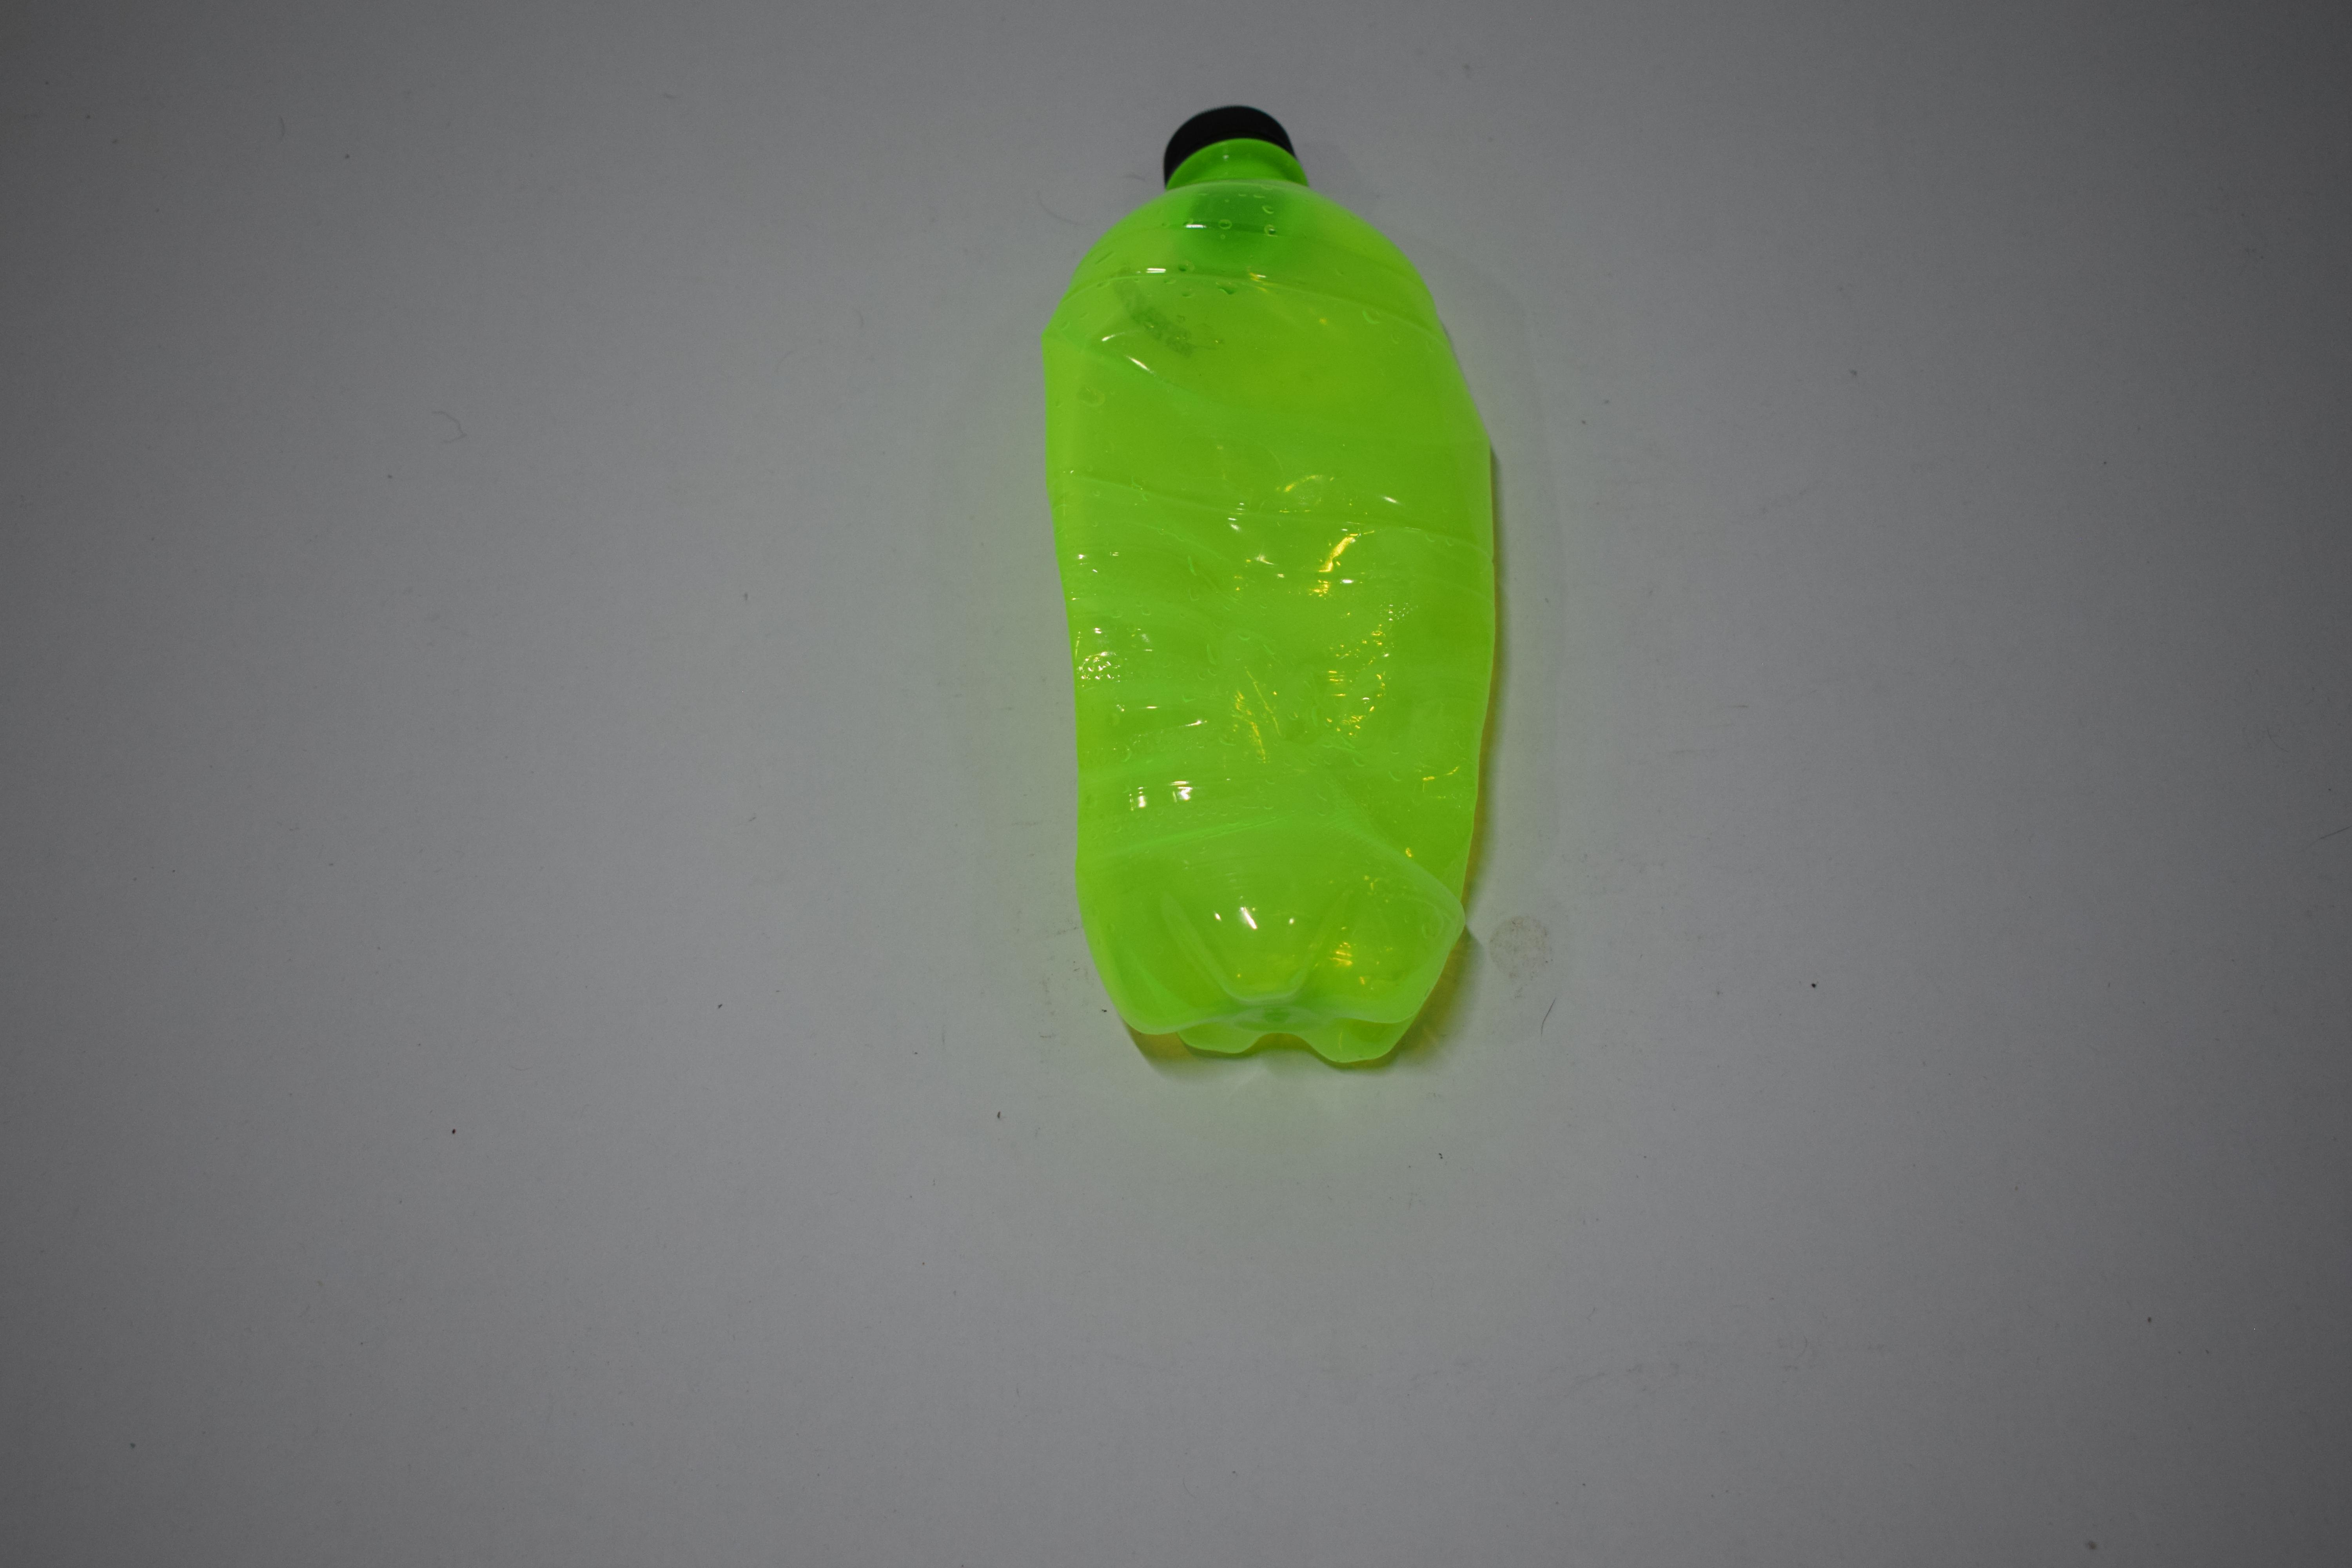bottle: (0, 95, 333, 1066)
